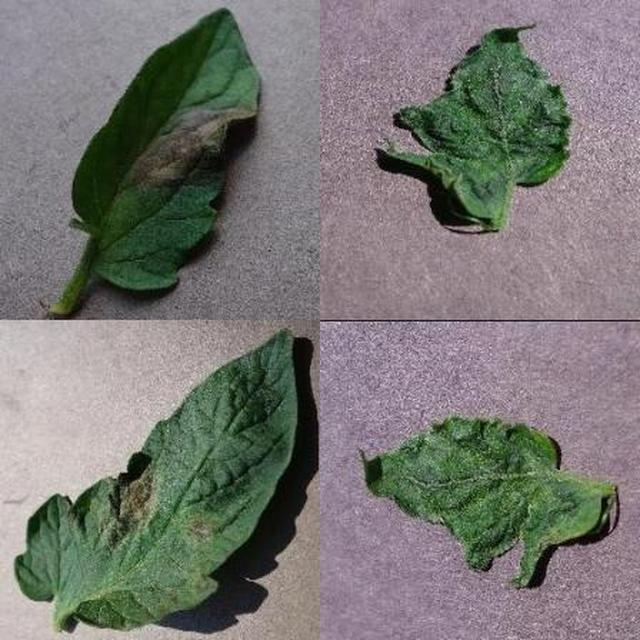Late Blight Leaf: (223, 172, 640, 640)
